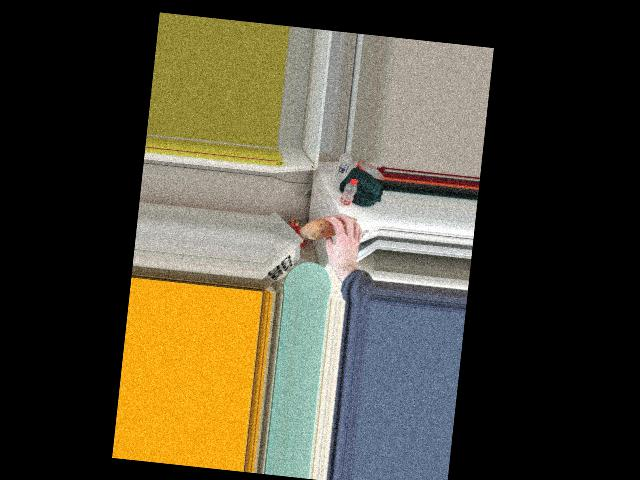sweet_potato: (301, 211, 361, 242)
